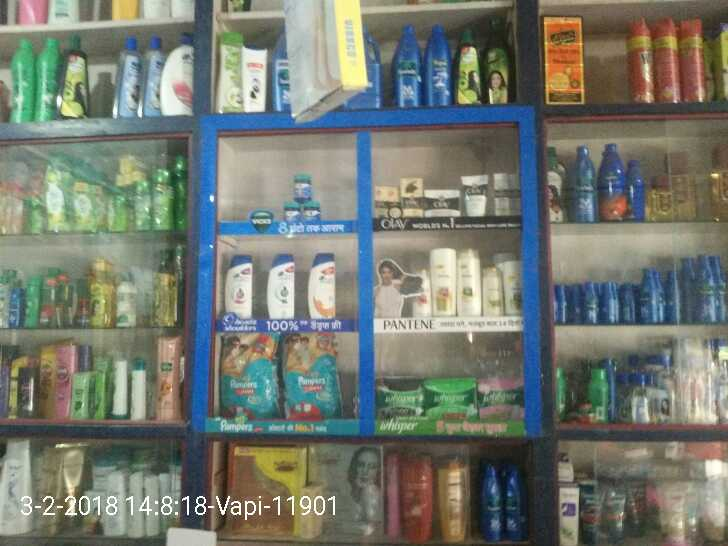beauty: (212, 249, 253, 315), (263, 249, 299, 319), (305, 249, 337, 319), (424, 242, 454, 316), (459, 240, 480, 318), (421, 188, 463, 217), (403, 181, 420, 218), (465, 182, 483, 214)
pharmacy: (282, 332, 344, 421), (220, 328, 275, 420), (282, 164, 330, 233), (372, 382, 426, 423), (479, 379, 527, 421), (428, 381, 480, 417)
